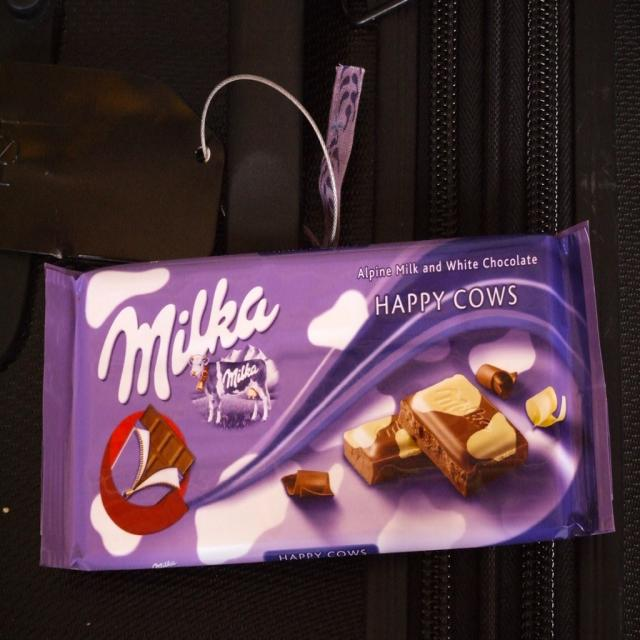milka: (97, 276, 284, 430)
